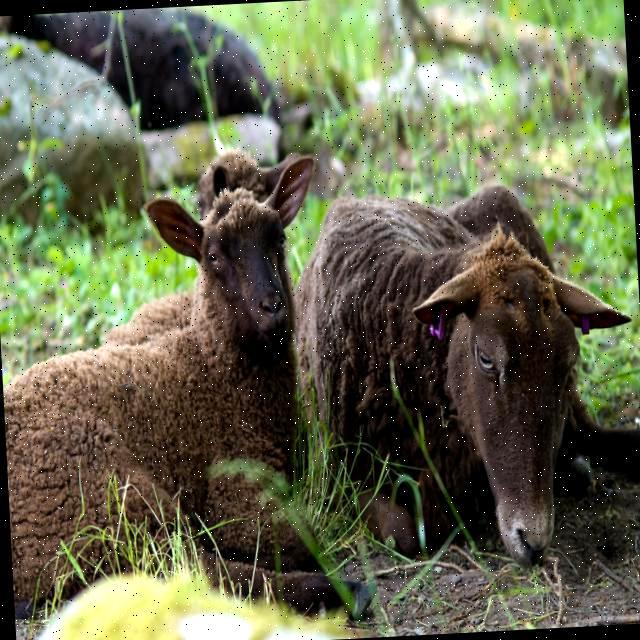sheep: (3, 157, 334, 626), (291, 187, 633, 558), (105, 150, 292, 343)
